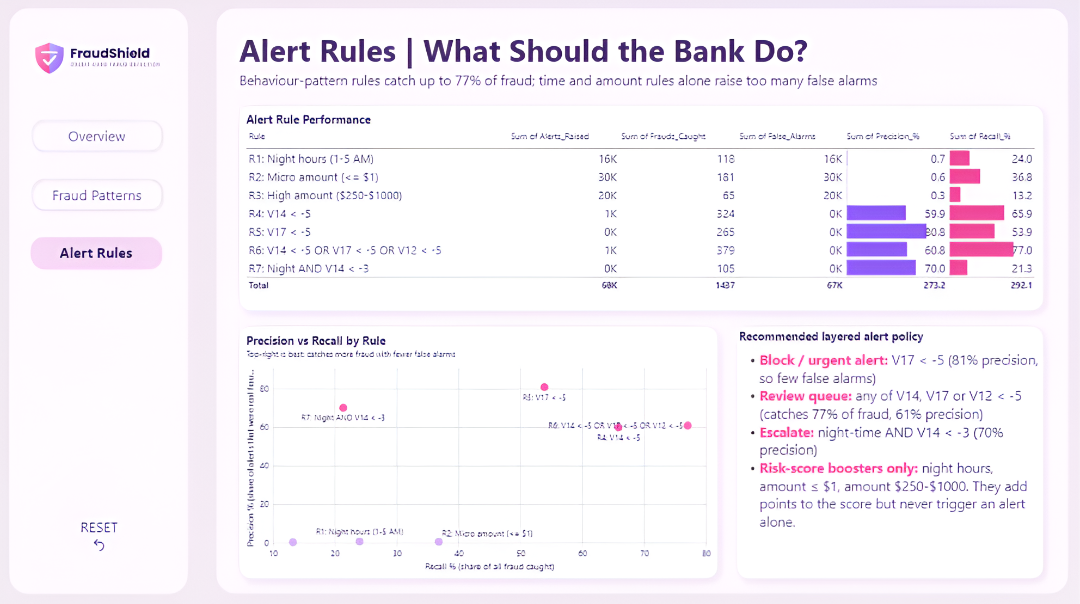

The page's visual inventory and layout, read from the dashboard file:
{"tool":"powerbi","page":{"name":"Alert Rules","canvas":[2560,1440],"ordinal":2},"visuals":[{"type":"shape","box":[28.2,25.6,420.5,1379.5],"z":0},{"type":"shape","box":[515.4,25.6,2007.7,1379.5],"z":1000},{"type":"image","box":[71.8,84.6,325.6,117.9],"z":2000},{"type":"pageNavigator","box":[71.8,279.5,325.6,369.2],"z":3000},{"type":"actionButton","box":[133.3,1217.9,212.8,97.4],"z":4000},{"type":"textbox","title":"Alert Rules | What Should the Bank Do?","box":[569.2,74.4,1528.2,153.8],"z":5000},{"type":"tableEx","title":"Alert Rule Performance","fields":{"Values":["rule_performance.Rule","Sum(rule_performance.Alerts_Raised)","Sum(rule_performance.Frauds_Caught)","Sum(rule_performance.False_Alarms)","Sum(rule_performance.Precision_%)","Sum(rule_performance.Recall_%)"]},"box":[569.2,253.8,1894.9,484.6],"z":6000},{"type":"scatterChart","title":"Precision vs Recall by Rule","fields":{"Category":["rule_performance.Rule"],"X":["rule_performance.Recall_%"],"Y":["Sum(rule_performance.Precision_%)"]},"box":[569.2,774.4,1128.2,594.9],"z":7000},{"type":"textbox","title":"Recommended layered alert policy","box":[1741,774.4,723.1,594.9],"z":8000}]}

Visuals, with their boxes in screenshot pixels (x1, y1, x2, y2), scaled from the page's 2560x1440 canvas onto the 1080x604 screenshot:
shape: (left=12, top=11, right=189, bottom=589)
shape: (left=217, top=11, right=1064, bottom=589)
image: (left=30, top=35, right=168, bottom=85)
pageNavigator: (left=30, top=117, right=168, bottom=272)
actionButton: (left=56, top=511, right=146, bottom=552)
"Alert Rules | What Should the Bank Do?" textbox: (left=240, top=31, right=885, bottom=96)
"Alert Rule Performance" tableEx: (left=240, top=106, right=1040, bottom=310)
"Precision vs Recall by Rule" scatterChart: (left=240, top=325, right=716, bottom=574)
"Recommended layered alert policy" textbox: (left=734, top=325, right=1040, bottom=574)
